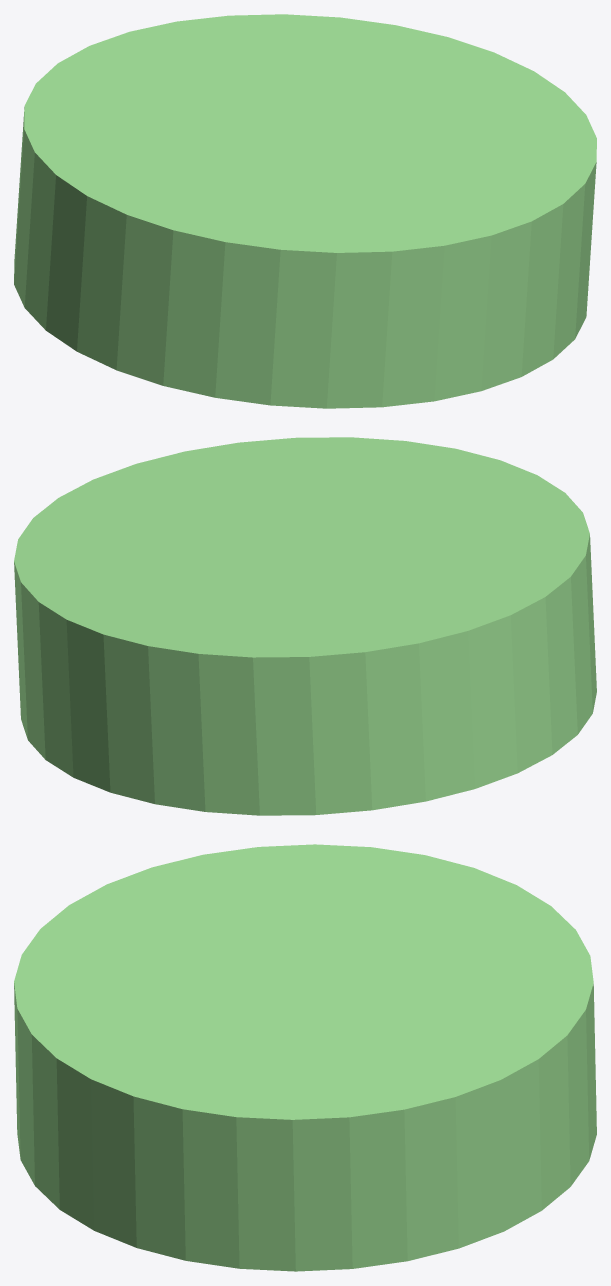
Rendered from boite_tissus_couvercle_t.fbx.
3 renders of one model, top to bottom at view 1: azimuth 30°, elevation 25°; view 2: azimuth 150°, elevation 25°; view 3: azimuth 270°, elevation 25°, orthographic.
Visible parts, largest first — view 1: couv cylindre; view 2: couv cylindre; view 3: couv cylindre.
Boxes of the visible parts, x1=… form: couv cylindre: x1=14, y1=14, x2=596, y2=408; couv cylindre: x1=14, y1=437, x2=596, y2=815; couv cylindre: x1=14, y1=844, x2=596, y2=1271.
Bounding box in the file's own units: 81.1 × 28.55 × 80.3.
